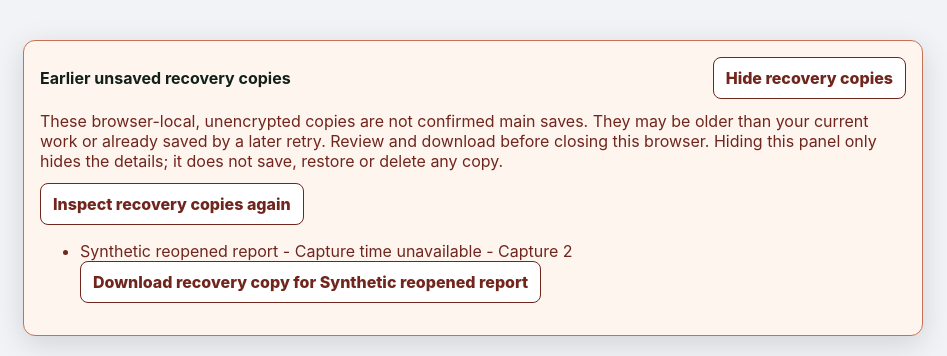
gives explicit feedback when inspection finds the same copies, including a later empty result
Step 1. Click the button "Inspect recovery copies again" → click(172, 204), box [40, 183, 304, 225]
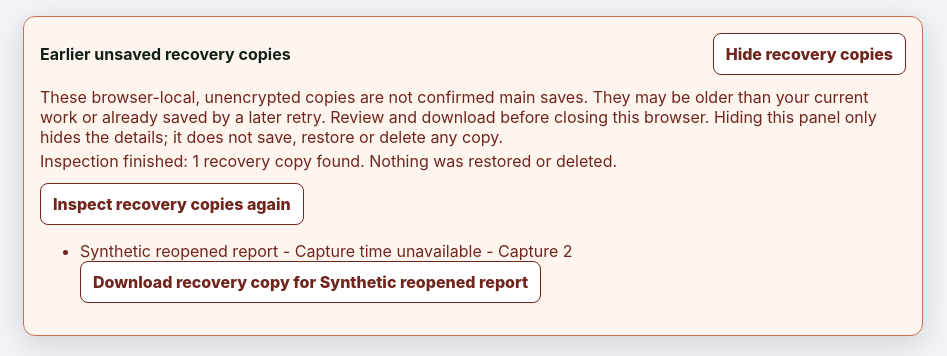
Expected: the message "Inspection finished: 1 recovery copy found. Nothing was restored or deleted." is shown, [40, 151, 617, 171]
Expected: the text "Nothing was restored or deleted." is shown, [40, 151, 617, 171]
Step 2. Click the button "Inspect recovery copies again" → click(172, 204), box [40, 183, 304, 225]
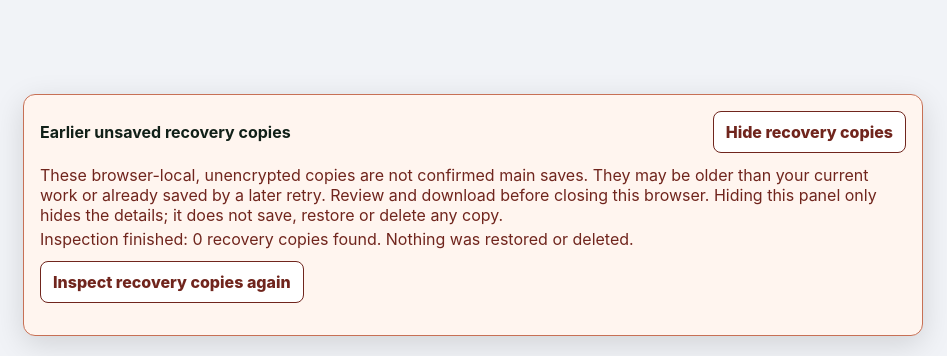
Expected: the text "Inspection finished: 0 recovery copies found." is shown, [40, 229, 634, 249]
